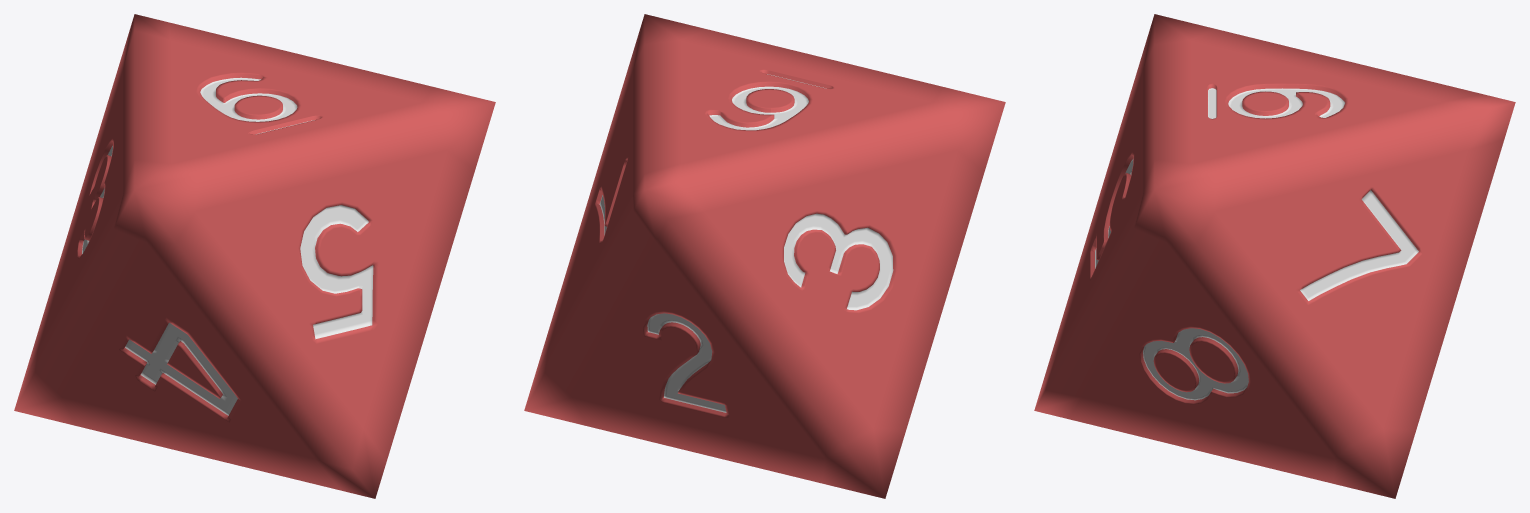
Rendered from die_8.dae.
The picture shows the model from 3 angles, left to right: view 1: azimuth 30°, elevation 25°; view 2: azimuth 150°, elevation 25°; view 3: azimuth 270°, elevation 25°; orthographic projection.
Visible parts, largest first — view 1: Die; view 2: Die; view 3: Die.
Boxes of the visible parts, box(x1,y1,x2,y2) form: Die: box(14, 14, 495, 498); Die: box(524, 14, 1005, 498); Die: box(1034, 14, 1515, 498).
Size of what is drawn, in the model's own units: 1.17 by 1.35 by 0.9523.
